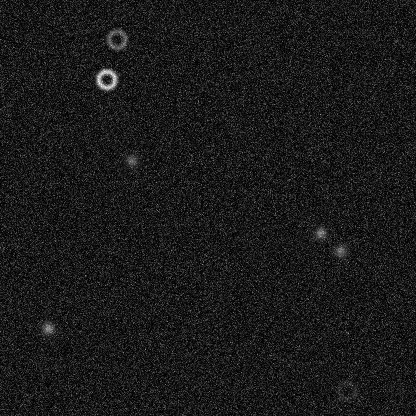Ring: (94, 67, 118, 91), (104, 27, 128, 51), (334, 378, 358, 402)
Spot: (123, 152, 139, 168), (332, 242, 348, 258), (40, 320, 56, 336), (312, 224, 328, 240)
